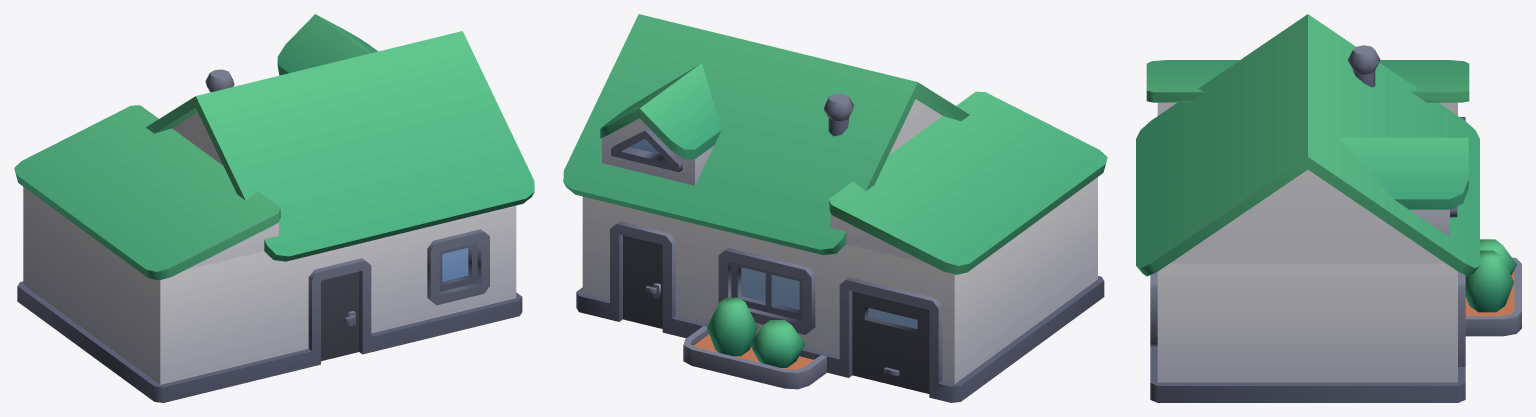
The model's file is house_8.fbx.
3 views of the same model, side by side, from view 1: azimuth 30°, elevation 25°; view 2: azimuth 150°, elevation 25°; view 3: azimuth 270°, elevation 25° (orthographic). The views are drawn at different scales.
Visible parts, largest first — view 1: house_8; view 2: house_8; view 3: house_8.
Part boxes in pixels (x1,y1,x2,y2): house_8: (14,14,534,402); house_8: (563,14,1107,402); house_8: (1136,14,1521,402).
Size of the model in its own units: 1.29 by 0.7375 by 1.03.
Materials: 1 (1 with a texture image).
